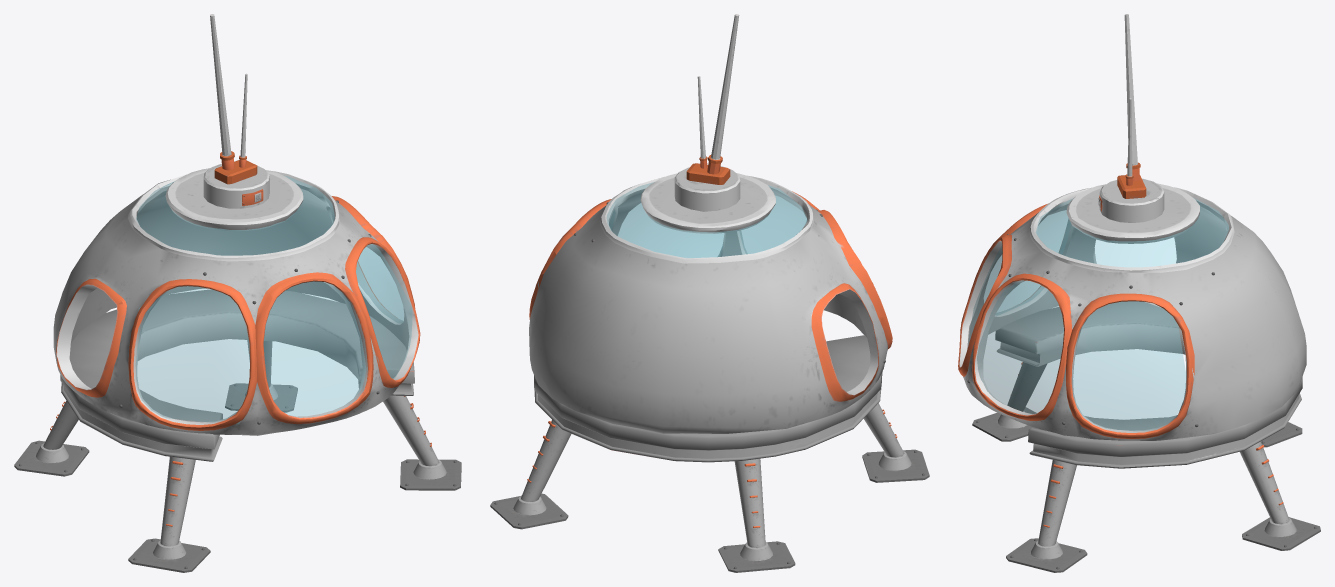
Rendered from Station_Dome.fbx.
3 renders of one model, left to right at view 1: azimuth 30°, elevation 25°; view 2: azimuth 150°, elevation 25°; view 3: azimuth 270°, elevation 25°, orthographic. The views are drawn at different scales.
Visible parts, largest first — view 1: Station_Dome.007, Station_DomeWindows.007, Station_DomeLegs.001; view 2: Station_Dome.007, Station_DomeLegs.001, Station_DomeWindows.007; view 3: Station_Dome.007, Station_DomeWindows.007, Station_DomeLegs.001.
Part boxes in pixels (<box>): Station_Dome.007: <box>53,14,420,435</box>; Station_DomeWindows.007: <box>136,175,411,423</box>; Station_DomeLegs.001: <box>14,289,461,572</box>; Station_Dome.007: <box>529,14,892,433</box>; Station_DomeLegs.001: <box>490,335,929,572</box>; Station_DomeWindows.007: <box>607,182,807,258</box>; Station_Dome.007: <box>958,14,1306,440</box>; Station_DomeWindows.007: <box>969,198,1228,430</box>; Station_DomeLegs.001: <box>972,301,1320,572</box>.
Size of the model in its own units: 32.96 by 42.74 by 30.66.
